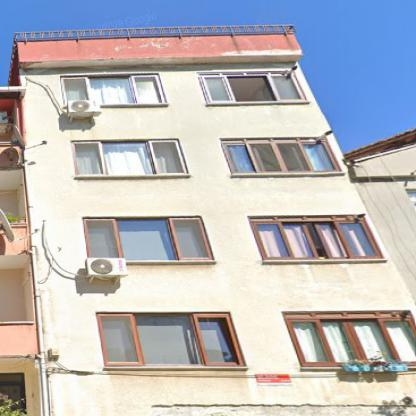window: (101, 315, 240, 364), (290, 320, 416, 362), (86, 218, 210, 260), (254, 221, 376, 257), (74, 141, 185, 175), (221, 141, 336, 173), (201, 72, 303, 102), (62, 74, 163, 104)
